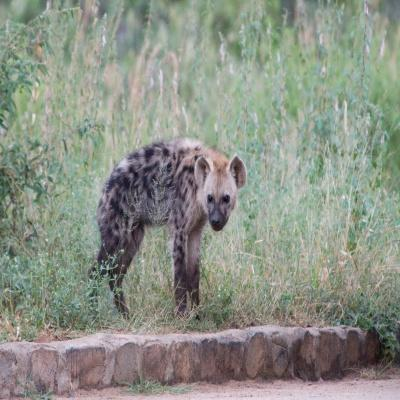hyenas: (69, 122, 283, 318)
